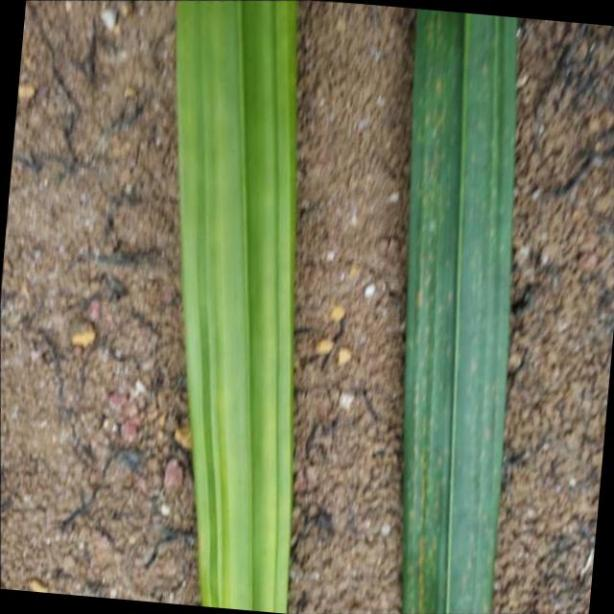nitrogen: (166, 0, 298, 614), (406, 0, 521, 614)
